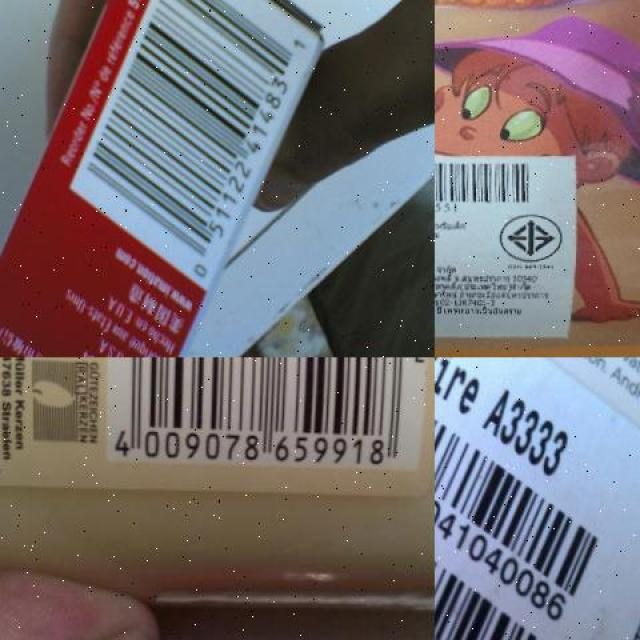Barcode: (70, 0, 330, 295), (108, 358, 428, 470), (435, 154, 541, 214)
